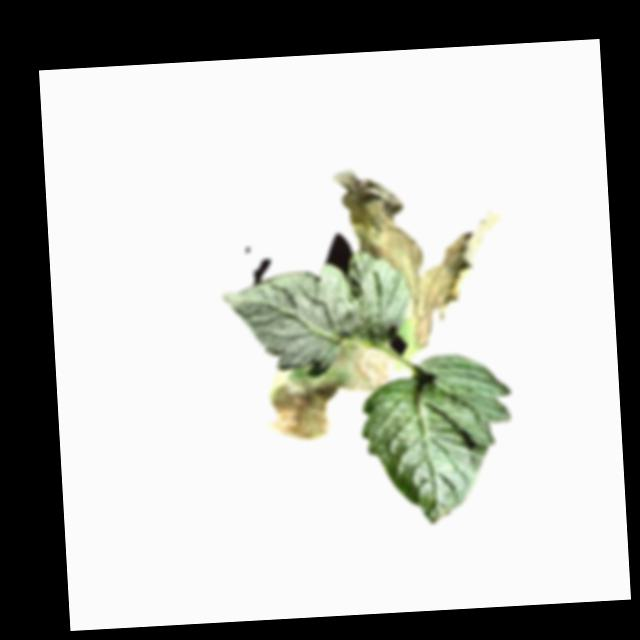Late_blight: (329, 159, 510, 357), (260, 339, 399, 443)
healthy: (358, 350, 519, 529), (218, 249, 413, 385)
